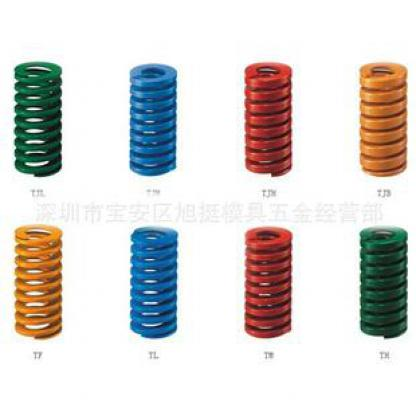FOD: (9, 57, 66, 183), (11, 220, 67, 345), (240, 56, 297, 178), (240, 222, 297, 343), (355, 57, 410, 182), (354, 224, 412, 340), (126, 221, 181, 341), (127, 60, 179, 180)
